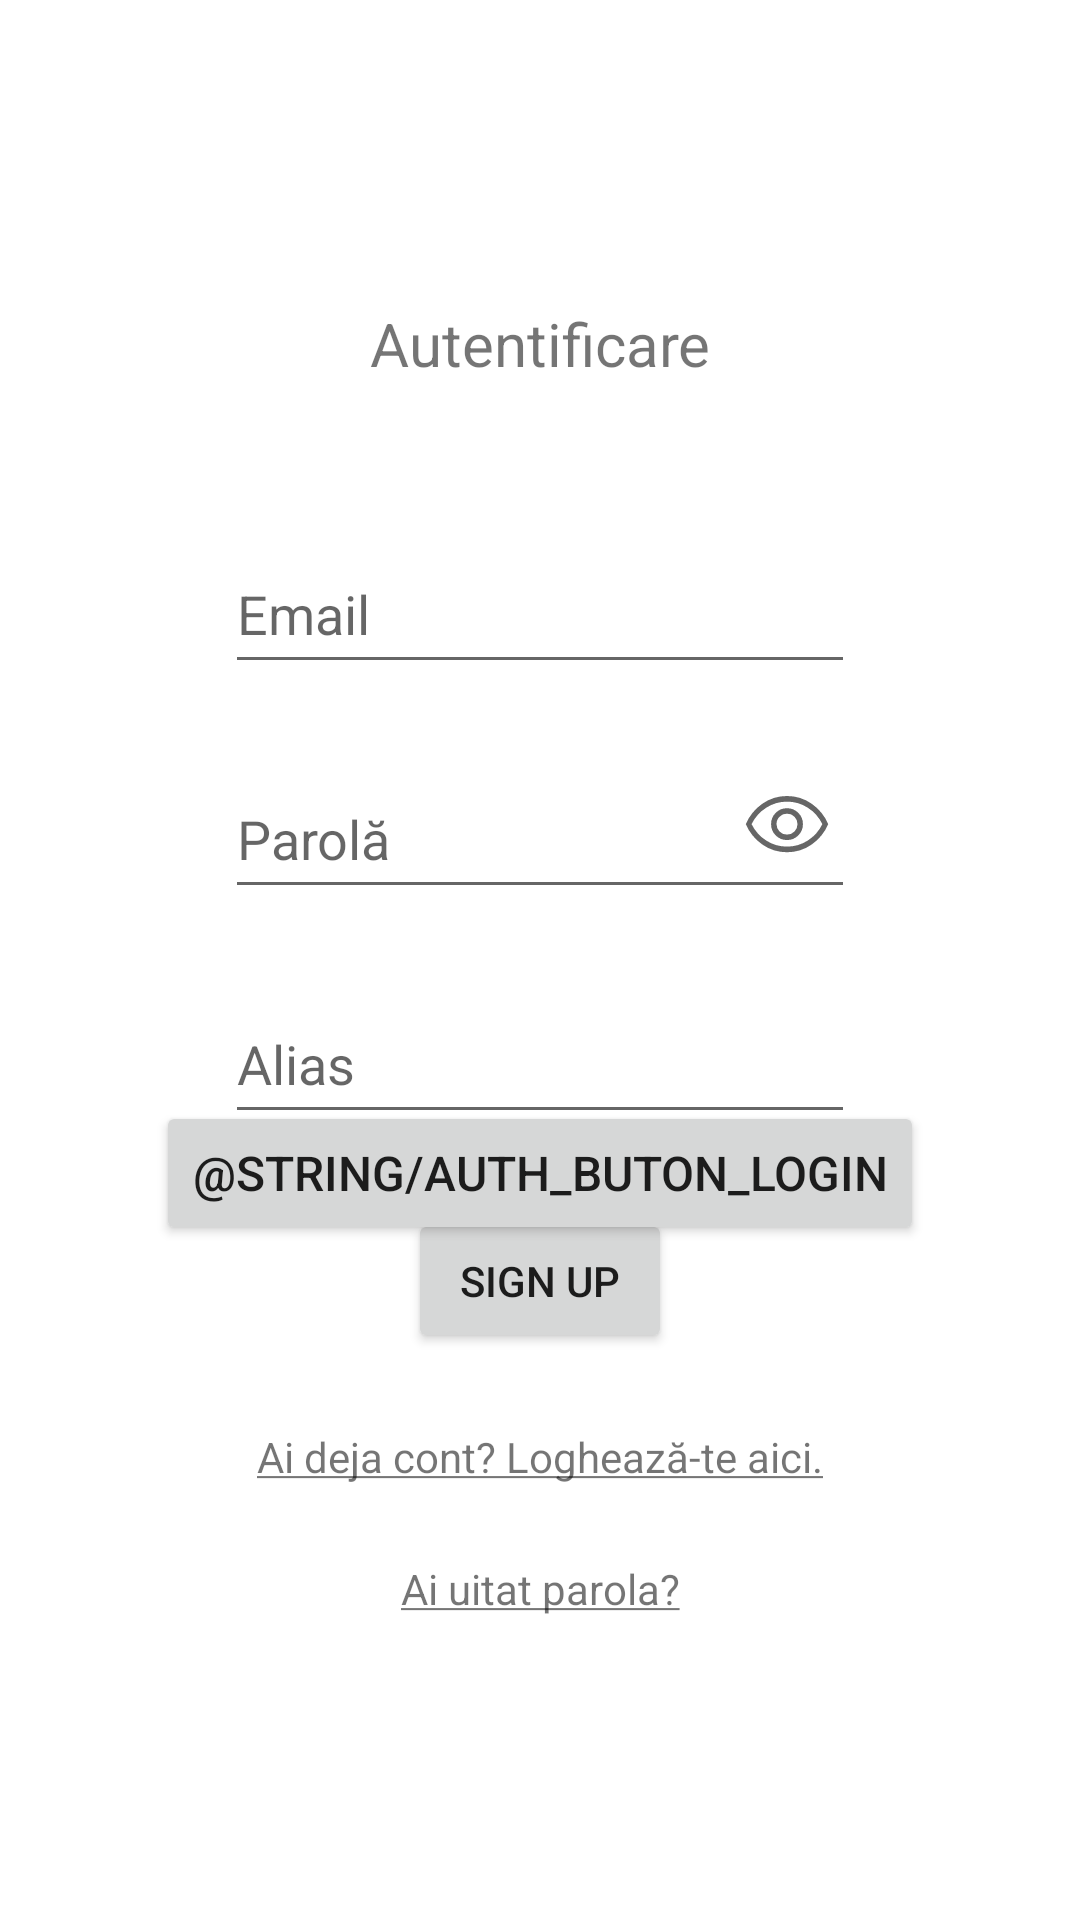

Screen size 1080x1920. Icon name, then its center in pixels as (x,y):
vis on: (787,824)
